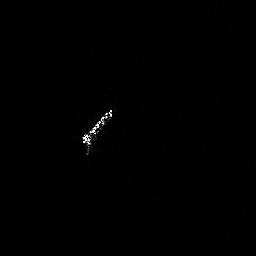ship: (78, 106, 115, 156)
